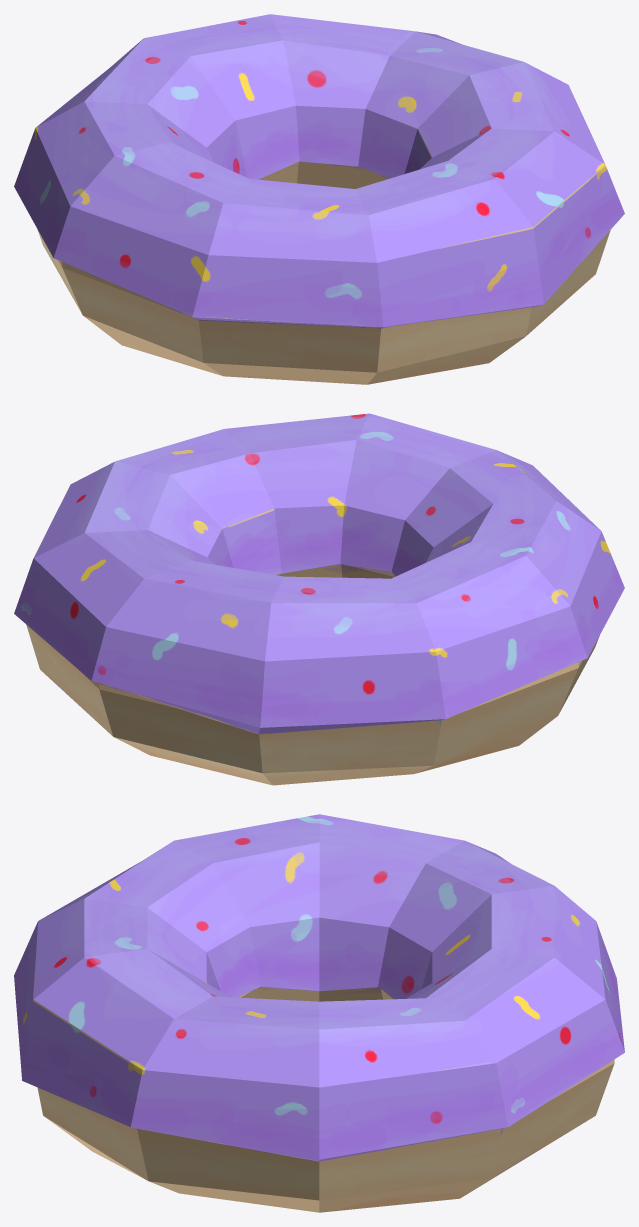
The model's file is donut.glb.
3 renders of one model, top to bottom at view 1: azimuth 30°, elevation 25°; view 2: azimuth 150°, elevation 25°; view 3: azimuth 270°, elevation 25°, orthographic. The views are drawn at different scales.
Parts seen in each view (by area): view 1: Torus.001; view 2: Torus.001; view 3: Torus.001.
Boxes of the visible parts, x1=… form: Torus.001: x1=14, y1=14, x2=624, y2=384; Torus.001: x1=14, y1=413, x2=624, y2=785; Torus.001: x1=14, y1=814, x2=624, y2=1212.
Size of the model in its own units: 3.08 by 1.08 by 2.95.
Materials: 1 (1 with a texture image).
